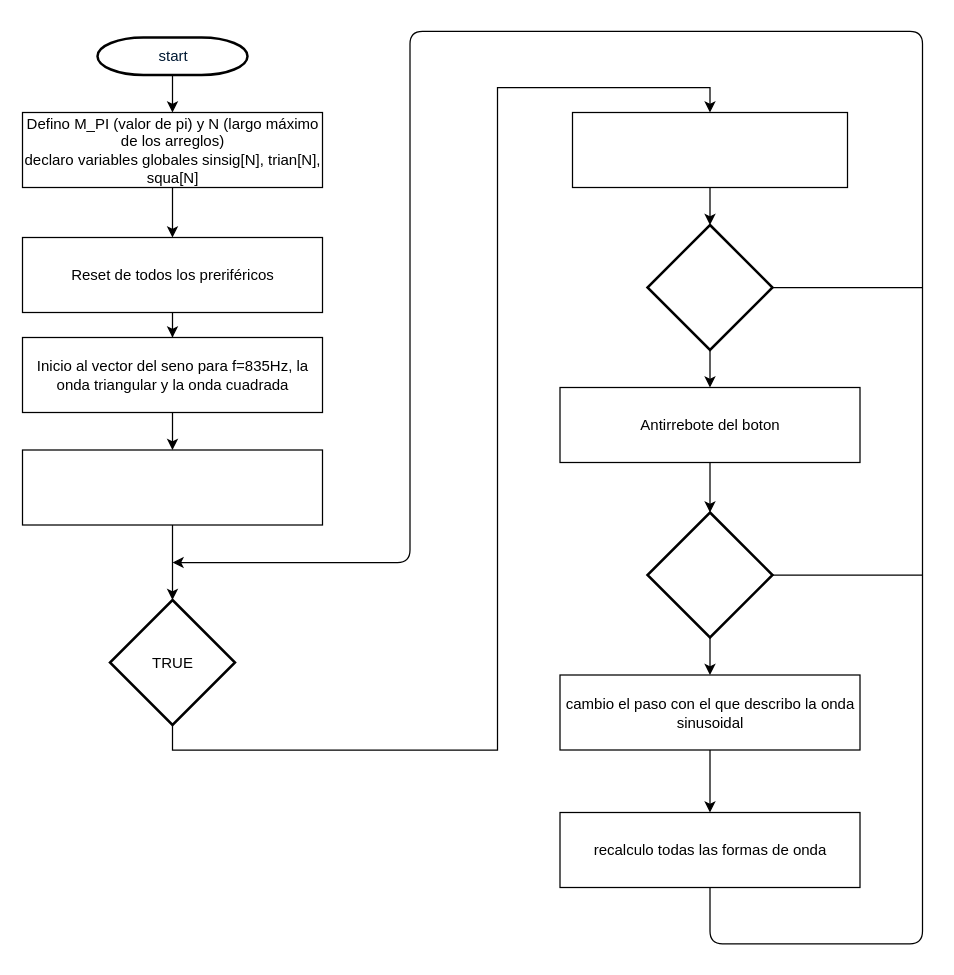
The diagram is 954 pixels wide and 975 high, and some of its shapes have lost their labels. The shapes that lost their labels are listed below. From the top down, each one's centre as x and y in pixels, then its label:
At [709,149]: "Escribir un ciclo completo de los 3 tipos de ondas".
At [709,287]: "botón presionado".
At [171,487]: "Inicializo el HW (input/output, DAC)".
At [709,574]: "sigue botón presionado".
